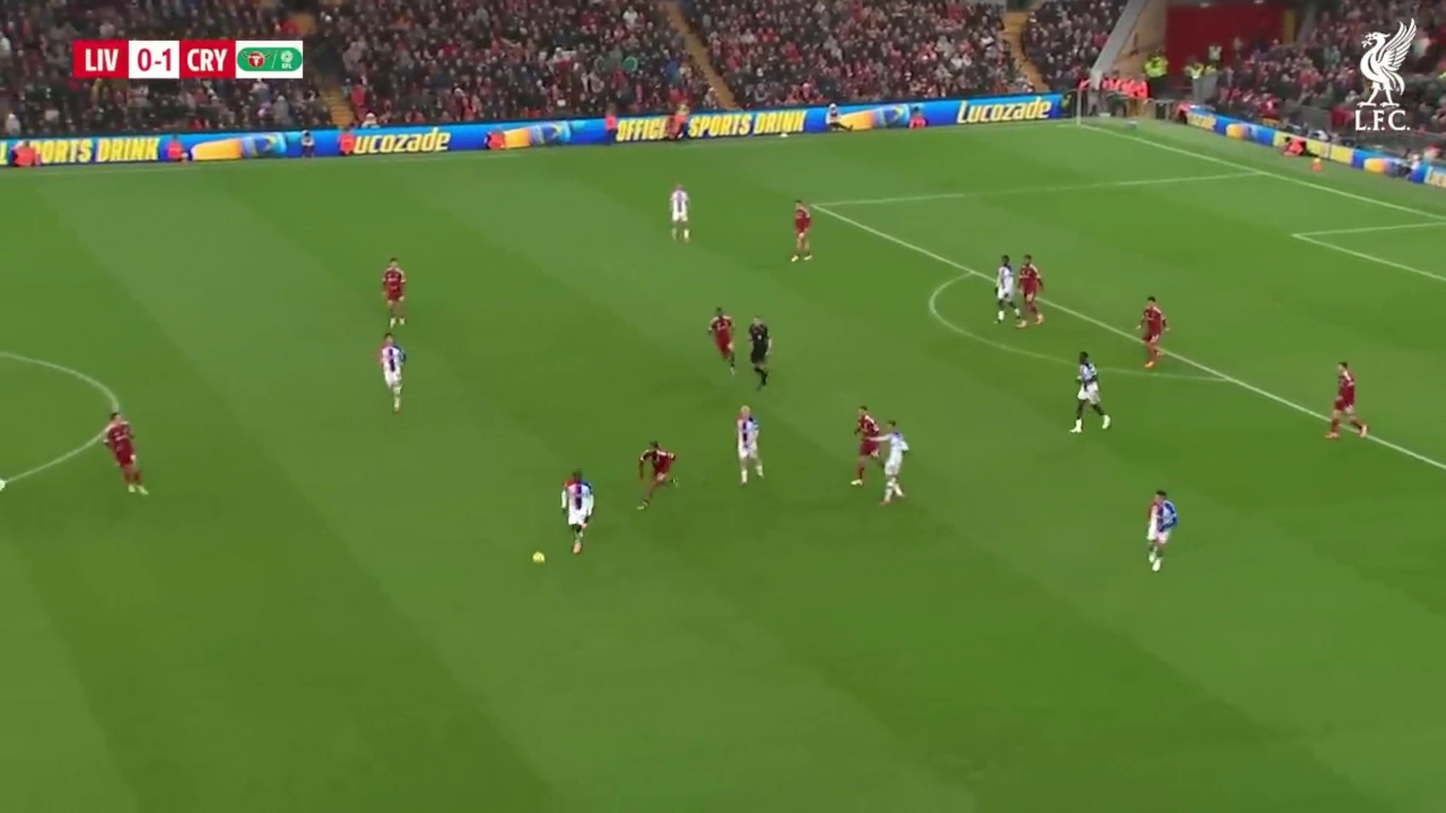player: (849, 406, 902, 495), (101, 413, 149, 497), (1068, 351, 1110, 436), (1324, 363, 1367, 441), (562, 469, 595, 558), (1146, 487, 1178, 574), (850, 407, 884, 487), (634, 446, 674, 511), (877, 426, 909, 504), (736, 405, 764, 486), (1138, 296, 1167, 370), (378, 336, 405, 410), (1018, 255, 1045, 326), (708, 310, 737, 372), (748, 317, 772, 389), (635, 446, 662, 510), (790, 201, 814, 264), (995, 253, 1017, 319), (669, 182, 692, 243), (562, 471, 585, 529), (649, 443, 676, 486)
